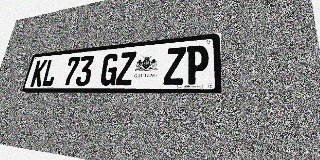3: (75, 55, 95, 86)
7: (62, 56, 81, 86)
G: (99, 53, 120, 86)
K: (30, 60, 48, 87)
L: (41, 59, 59, 87)
P: (185, 45, 209, 85)
Z: (163, 47, 186, 85), (115, 51, 137, 86)
